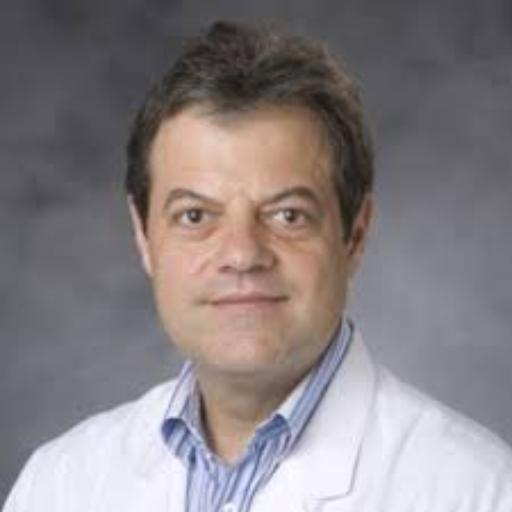left_eye: (267, 209, 319, 234)
left_lip_corner: (275, 292, 298, 310)
right_eye: (172, 206, 222, 232)
right_lip_corner: (195, 297, 219, 313)
